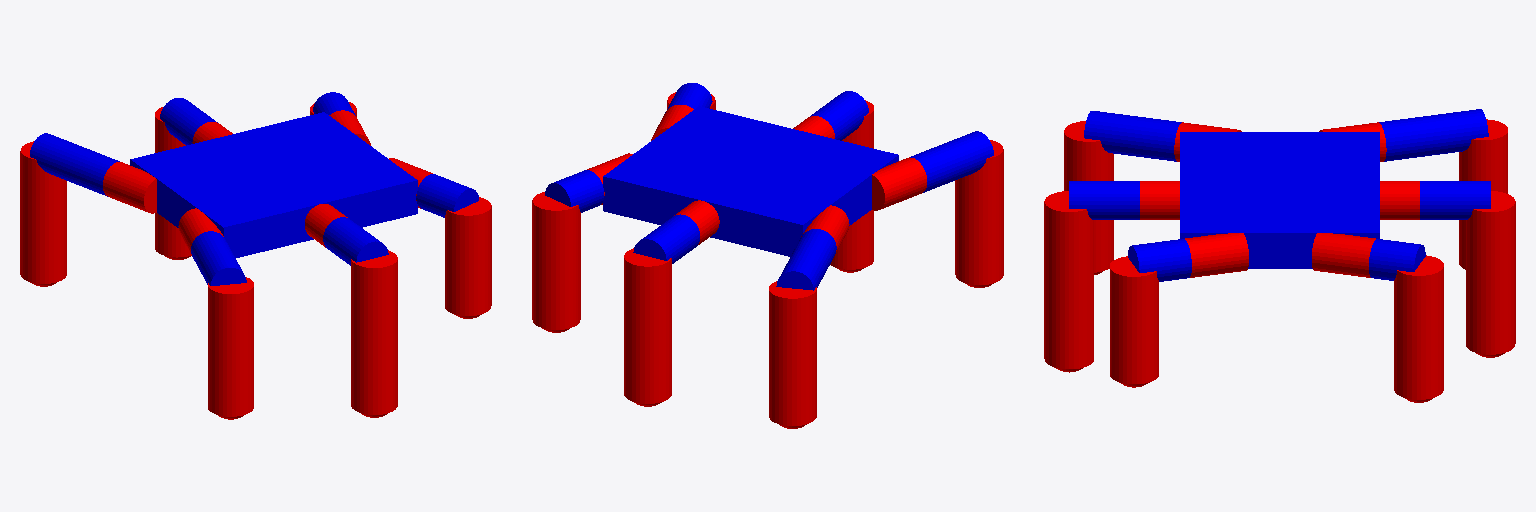
--- What the picture shows (computed from the rendered views, not written in the file) ---
The picture shows the robot from 3 angles, left to right: view 1: azimuth 30°, elevation 25°; view 2: azimuth 150°, elevation 25°; view 3: azimuth 270°, elevation 25°; orthographic projection.
Model pexod with 19 links and 18 joints (18 revolute), rooted at base_link, posed every joint at zero.
Visible links, largest first — view 1: base_link, leg_4_3, leg_5_3, leg_0_3, leg_3_3, leg_0_2, leg_5_2, leg_0_1, leg_4_2, leg_3_2, leg_1_3, leg_1_2 (+3 smaller); view 2: base_link, leg_1_3, leg_0_3, leg_2_3, leg_5_3, leg_5_2, leg_4_3, leg_0_2, leg_5_1, leg_1_2, leg_2_2, leg_4_2 (+5 smaller); view 3: base_link, leg_4_3, leg_1_3, leg_2_3, leg_3_3, leg_0_2, leg_5_2, leg_5_3, leg_0_3, leg_1_2, leg_4_2, leg_2_1 (+7 smaller).
Link boxes in pixels (x1,y1,x2,y2): base_link: [130, 112, 417, 257]; leg_4_3: [351, 250, 397, 417]; leg_5_3: [208, 277, 253, 419]; leg_0_3: [20, 141, 66, 286]; leg_3_3: [445, 197, 491, 318]; leg_0_2: [30, 133, 119, 196]; leg_5_2: [191, 231, 246, 285]; leg_0_1: [103, 162, 156, 213]; leg_4_2: [323, 217, 388, 265]; leg_3_2: [416, 174, 478, 217]; leg_1_3: [155, 107, 191, 259]; leg_1_2: [160, 98, 217, 145]; base_link: [603, 106, 898, 256]; leg_1_3: [624, 248, 671, 406]; leg_0_3: [769, 281, 816, 428]; leg_2_3: [532, 192, 580, 332]; leg_5_3: [955, 140, 1003, 287]; leg_5_2: [910, 131, 993, 192]; leg_4_3: [830, 100, 873, 272]; leg_0_2: [776, 229, 836, 290]; leg_5_1: [872, 157, 926, 210]; leg_1_2: [633, 214, 699, 263]; leg_2_2: [545, 170, 603, 212]; leg_4_2: [810, 91, 868, 140]; base_link: [1180, 132, 1379, 268]; leg_4_3: [1044, 191, 1093, 372]; leg_1_3: [1466, 191, 1515, 357]; leg_2_3: [1394, 255, 1443, 402]; leg_3_3: [1110, 256, 1158, 387]; leg_0_2: [1379, 109, 1488, 161]; leg_5_2: [1084, 111, 1181, 161]; leg_5_3: [1064, 121, 1113, 274]; leg_0_3: [1459, 119, 1507, 269]; leg_1_2: [1420, 181, 1490, 219]; leg_4_2: [1069, 181, 1139, 219]; leg_2_1: [1312, 233, 1375, 277].
Bounding box of the posed robot: 0.3731 × 0.4712 × 0.2062 m (x, y, z).
Geometry: primitives only (box / cylinder / sphere), no mesh files.

robot.urdf — pexod:
<?xml version="1.0" ?>
<!-- =================================================================================== -->
<!-- |    This document was autogenerated by xacro from pexod.xacro                    | -->
<!-- |    EDITING THIS FILE BY HAND IS NOT RECOMMENDED                                 | -->
<!-- =================================================================================== -->
<robot name="pexod" xmlns:xacro="http://www.ros.org/wiki/xacro">
  <!-- <xacro:include filename="$(find pexod_description)/urdf/pexod_control.xacro" /> -->
  <!-- MATERIALS -->
  <material name="Blue">
    <color rgba="0 0 1 1"/>
  </material>
  <material name="Red">
    <color rgba="1 0 0 1"/>
  </material>
  <material name="Green">
    <color rgba="0 1 0 1"/>
  </material>
  <material name="Yellow">
    <color rgba="1 1 0 1"/>
  </material>
  <material name="LightGrey">
    <color rgba="0.6 0.6 0.6 1.0"/>
  </material>
  <!-- END OF MATERIALS -->
  <!-- XACRO MACROS FOR VISUALS AND COLLISIONS -->
  <!-- END OF XACRO MACROS -->
  <!-- TORSO -->
  <link name="base_link">
    <visual>
      <origin rpy="0 0 0" xyz="0 0 0"/>
      <geometry>
        <box size="0.24 0.2 0.04"/>
      </geometry>
      <material name="Blue"/>
    </visual>
    <collision>
      <origin rpy="0 0 0" xyz="0 0 0"/>
      <geometry>
        <box size="0.24 0.2 0.04"/>
      </geometry>
    </collision>
    <inertial>
      <!-- CENTER OF MASS -->
      <origin rpy="0 0 0" xyz="0 0 0"/>
      <mass value="1.031"/>
      <!-- box inertia: 1/12*m(y^2+z^2), ... -->
      <inertia ixx="0.00357413333333" ixy="0" ixz="0" iyy="0.00508626666667" iyz="0" izz="0.00838546666667"/>
    </inertial>
  </link>
  <!-- XACRO MACRO FOR LEGS LINKS/JOINTS -->
  <!-- END OF LEG LINKS/JOINTS -->
  <joint name="body_leg_2" type="revolute">
    <parent link="base_link"/>
    <child link="leg_2_1"/>
    <limit effort="30.0" lower="-1.57079632679" upper="1.57079632679" velocity="7.0"/>
    <origin rpy="0 0 -0.3" xyz="0.11 0.04 0"/>
    <!-- <xacro:if value="${index == 5 or index == 4 or index == 3}">
                <axis xyz="0 0 1"/>
            </xacro:if>
            <xacro:if value="${index == 2 or index == 1 or index == 0}"> -->
    <axis xyz="0 0 1"/>
    <!-- </xacro:if> -->
    <dynamics damping="0.0"/>
  </joint>
  <link name="leg_2_1">
    <visual>
      <origin rpy="1.57079632679 0 0" xyz="0.01 0.03 0"/>
      <geometry>
        <cylinder length="0.06" radius="0.02"/>
      </geometry>
      <material name="Red"/>
    </visual>
    <collision>
      <origin rpy="1.57079632679 0 0" xyz="0.01 0.03 0"/>
      <geometry>
        <box size="0.02 0.02 0.06"/>
      </geometry>
    </collision>
    <inertial>
      <!-- CENTER OF MASS -->
      <origin rpy="1.57079632679 0 0" xyz="0.01 0.03 0"/>
      <mass value="0.02"/>
      <!-- box inertia: 1/12*m(y^2+z^2), ... -->
      <inertia ixx="6.66666666667e-06" ixy="0" ixz="0" iyy="6.66666666667e-06" iyz="0" izz="1.33333333333e-06"/>
    </inertial>
  </link>
  <joint name="leg_2_1_2" type="revolute">
    <parent link="leg_2_1"/>
    <child link="leg_2_2"/>
    <limit effort="30.0" lower="-0.78539816339" upper="0.78539816339" velocity="7.0"/>
    <origin rpy="0 0 0" xyz="0 0.06 0"/>
    <axis xyz="1 0 0"/>
    <dynamics damping="0.0"/>
  </joint>
  <link name="leg_2_2">
    <visual>
      <origin rpy="1.57079632679 0 0" xyz="0.01 0.0236103454167 0"/>
      <geometry>
        <cylinder length="0.0472206908334" radius="0.02"/>
      </geometry>
      <material name="Blue"/>
    </visual>
    <collision>
      <origin rpy="1.57079632679 0 0" xyz="0.01 0.0236103454167 0"/>
      <geometry>
        <box size="0.02 0.02 0.0472206908334"/>
      </geometry>
    </collision>
    <inertial>
      <!-- CENTER OF MASS -->
      <origin rpy="1.57079632679 0 0" xyz="0.01 0.0236103454167 0"/>
      <mass value="0.184"/>
      <!-- box inertia: 1/12*m(y^2+z^2), ... -->
      <inertia ixx="4.03235025227e-05" ixy="0" ixz="0" iyy="4.03235025227e-05" iyz="0" izz="1.22666666667e-05"/>
    </inertial>
  </link>
  <joint name="leg_2_2_3" type="revolute">
    <parent link="leg_2_2"/>
    <child link="leg_2_3"/>
    <limit effort="30.0" lower="-0.78539816339" upper="0.78539816339" velocity="7.0"/>
    <origin rpy="-1.57079632679 0 0" xyz="0 0.0472206908334 0"/>
    <axis xyz="-1 0 0"/>
    <dynamics damping="0.0"/>
  </joint>
  <link name="leg_2_3">
    <visual>
      <origin rpy="1.57079632679 0 0" xyz="0.0125 0.06843462763 0"/>
      <geometry>
        <cylinder length="0.13686925526" radius="0.025"/>
      </geometry>
      <material name="Red"/>
    </visual>
    <visual>
      <origin rpy="1.57079632679 0 0" xyz="0.0125 0.12436925526 0"/>
      <geometry>
        <sphere radius="0.025"/>
      </geometry>
      <material name="Red"/>
    </visual>
    <collision>
      <origin rpy="1.57079632679 0 0" xyz="0.0125 0.06843462763 0"/>
      <geometry>
        <box size="0.025 0.025 0.13686925526"/>
      </geometry>
    </collision>
    <collision>
      <origin rpy="1.57079632679 0 0" xyz="0.0125 0.12436925526 0"/>
      <geometry>
        <sphere radius="0.025"/>
      </geometry>
      <material name="Red"/>
    </collision>
    <inertial>
      <!-- CENTER OF MASS -->
      <origin rpy="1.57079632679 0 0" xyz="0.0125 0.06843462763 0"/>
      <mass value="0.04"/>
      <!-- box inertia: 1/12*m(y^2+z^2), ... -->
      <inertia ixx="6.45273101181e-05" ixy="0" ixz="0" iyy="6.45273101181e-05" iyz="0" izz="4.16666666667e-06"/>
    </inertial>
  </link>
  <joint name="body_leg_3" type="revolute">
    <parent link="base_link"/>
    <child link="leg_3_1"/>
    <limit effort="30.0" lower="-1.57079632679" upper="1.57079632679" velocity="7.0"/>
    <origin rpy="0 0 0.3" xyz="0.11 -0.04 0"/>
    <!-- <xacro:if value="${index == 5 or index == 4 or index == 3}">
                <axis xyz="0 0 1"/>
            </xacro:if>
            <xacro:if value="${index == 2 or index == 1 or index == 0}"> -->
    <axis xyz="0 0 1"/>
    <!-- </xacro:if> -->
    <dynamics damping="0.0"/>
  </joint>
  <link name="leg_3_1">
    <visual>
      <origin rpy="1.57079632679 0 0" xyz="0.01 -0.03 0"/>
      <geometry>
        <cylinder length="0.06" radius="0.02"/>
      </geometry>
      <material name="Red"/>
    </visual>
    <collision>
      <origin rpy="1.57079632679 0 0" xyz="0.01 -0.03 0"/>
      <geometry>
        <box size="0.02 0.02 0.06"/>
      </geometry>
    </collision>
    <inertial>
      <!-- CENTER OF MASS -->
      <origin rpy="1.57079632679 0 0" xyz="0.01 -0.03 0"/>
      <mass value="0.02"/>
      <!-- box inertia: 1/12*m(y^2+z^2), ... -->
      <inertia ixx="6.66666666667e-06" ixy="0" ixz="0" iyy="6.66666666667e-06" iyz="0" izz="1.33333333333e-06"/>
    </inertial>
  </link>
  <joint name="leg_3_1_2" type="revolute">
    <parent link="leg_3_1"/>
    <child link="leg_3_2"/>
    <limit effort="30.0" lower="-0.78539816339" upper="0.78539816339" velocity="7.0"/>
    <origin rpy="0 0 0" xyz="0 -0.06 0"/>
    <axis xyz="-1 0 0"/>
    <dynamics damping="0.0"/>
  </joint>
  <link name="leg_3_2">
    <visual>
      <origin rpy="1.57079632679 0 0" xyz="0.01 -0.0274284698387 0"/>
      <geometry>
        <cylinder length="0.0548569396774" radius="0.02"/>
      </geometry>
      <material name="Blue"/>
    </visual>
    <collision>
      <origin rpy="1.57079632679 0 0" xyz="0.01 -0.0274284698387 0"/>
      <geometry>
        <box size="0.02 0.02 0.0548569396774"/>
      </geometry>
    </collision>
    <inertial>
      <!-- CENTER OF MASS -->
      <origin rpy="1.57079632679 0 0" xyz="0.01 -0.0274284698387 0"/>
      <mass value="0.184"/>
      <!-- box inertia: 1/12*m(y^2+z^2), ... -->
      <inertia ixx="5.22756854051e-05" ixy="0" ixz="0" iyy="5.22756854051e-05" iyz="0" izz="1.22666666667e-05"/>
    </inertial>
  </link>
  <joint name="leg_3_2_3" type="revolute">
    <parent link="leg_3_2"/>
    <child link="leg_3_3"/>
    <limit effort="30.0" lower="-0.78539816339" upper="0.78539816339" velocity="7.0"/>
    <origin rpy="1.57079632679 0 0" xyz="0 -0.0548569396774 0"/>
    <axis xyz="1 0 0"/>
    <dynamics damping="0.0"/>
  </joint>
  <link name="leg_3_3">
    <visual>
      <origin rpy="1.57079632679 0 0" xyz="0.0125 -0.0593877437105 0"/>
      <geometry>
        <cylinder length="0.118775487421" radius="0.025"/>
      </geometry>
      <material name="Red"/>
    </visual>
    <visual>
      <origin rpy="1.57079632679 0 0" xyz="0.0125 -0.106275487421 0"/>
      <geometry>
        <sphere radius="0.025"/>
      </geometry>
      <material name="Red"/>
    </visual>
    <collision>
      <origin rpy="1.57079632679 0 0" xyz="0.0125 -0.0593877437105 0"/>
      <geometry>
        <box size="0.025 0.025 0.118775487421"/>
      </geometry>
    </collision>
    <collision>
      <origin rpy="1.57079632679 0 0" xyz="0.0125 -0.106275487421 0"/>
      <geometry>
        <sphere radius="0.025"/>
      </geometry>
      <material name="Red"/>
    </collision>
    <inertial>
      <!-- CENTER OF MASS -->
      <origin rpy="1.57079632679 0 0" xyz="0.0125 -0.0593877437105 0"/>
      <mass value="0.04"/>
      <!-- box inertia: 1/12*m(y^2+z^2), ... -->
      <inertia ixx="4.91087213737e-05" ixy="0" ixz="0" iyy="4.91087213737e-05" iyz="0" izz="4.16666666667e-06"/>
    </inertial>
  </link>
  <joint name="body_leg_0" type="revolute">
    <parent link="base_link"/>
    <child link="leg_0_1"/>
    <limit effort="30.0" lower="-1.57079632679" upper="1.57079632679" velocity="7.0"/>
    <origin rpy="0 0 0.3" xyz="-0.13 0.04 0"/>
    <!-- <xacro:if value="${index == 5 or index == 4 or index == 3}">
                <axis xyz="0 0 1"/>
            </xacro:if>
            <xacro:if value="${index == 2 or index == 1 or index == 0}"> -->
    <axis xyz="0 0 1"/>
    <!-- </xacro:if> -->
    <dynamics damping="0.0"/>
  </joint>
  <link name="leg_0_1">
    <visual>
      <origin rpy="1.57079632679 0 0" xyz="0.01 0.03 0"/>
      <geometry>
        <cylinder length="0.06" radius="0.02"/>
      </geometry>
      <material name="Red"/>
    </visual>
    <collision>
      <origin rpy="1.57079632679 0 0" xyz="0.01 0.03 0"/>
      <geometry>
        <box size="0.02 0.02 0.06"/>
      </geometry>
    </collision>
    <inertial>
      <!-- CENTER OF MASS -->
      <origin rpy="1.57079632679 0 0" xyz="0.01 0.03 0"/>
      <mass value="0.02"/>
      <!-- box inertia: 1/12*m(y^2+z^2), ... -->
      <inertia ixx="6.66666666667e-06" ixy="0" ixz="0" iyy="6.66666666667e-06" iyz="0" izz="1.33333333333e-06"/>
    </inertial>
  </link>
  <joint name="leg_0_1_2" type="revolute">
    <parent link="leg_0_1"/>
    <child link="leg_0_2"/>
    <limit effort="30.0" lower="-0.78539816339" upper="0.78539816339" velocity="7.0"/>
    <origin rpy="0 0 0" xyz="0 0.06 0"/>
    <axis xyz="1 0 0"/>
    <dynamics damping="0.0"/>
  </joint>
  <link name="leg_0_2">
    <visual>
      <origin rpy="1.57079632679 0 0" xyz="0.01 0.053466234846 0"/>
      <geometry>
        <cylinder length="0.106932469692" radius="0.02"/>
      </geometry>
      <material name="Blue"/>
    </visual>
    <collision>
      <origin rpy="1.57079632679 0 0" xyz="0.01 0.053466234846 0"/>
      <geometry>
        <box size="0.02 0.02 0.106932469692"/>
      </geometry>
    </collision>
    <inertial>
      <!-- CENTER OF MASS -->
      <origin rpy="1.57079632679 0 0" xyz="0.01 0.053466234846 0"/>
      <mass value="0.184"/>
      <!-- box inertia: 1/12*m(y^2+z^2), ... -->
      <inertia ixx="0.000181463147141" ixy="0" ixz="0" iyy="0.000181463147141" iyz="0" izz="1.22666666667e-05"/>
    </inertial>
  </link>
  <joint name="leg_0_2_3" type="revolute">
    <parent link="leg_0_2"/>
    <child link="leg_0_3"/>
    <limit effort="30.0" lower="-0.78539816339" upper="0.78539816339" velocity="7.0"/>
    <origin rpy="-1.57079632679 0 0" xyz="0 0.106932469692 0"/>
    <axis xyz="-1 0 0"/>
    <dynamics damping="0.0"/>
  </joint>
  <link name="leg_0_3">
    <visual>
      <origin rpy="1.57079632679 0 0" xyz="0.0125 0.073176243044 0"/>
      <geometry>
        <cylinder length="0.146352486088" radius="0.025"/>
      </geometry>
      <material name="Red"/>
    </visual>
    <visual>
      <origin rpy="1.57079632679 0 0" xyz="0.0125 0.133852486088 0"/>
      <geometry>
        <sphere radius="0.025"/>
      </geometry>
      <material name="Red"/>
    </visual>
    <collision>
      <origin rpy="1.57079632679 0 0" xyz="0.0125 0.073176243044 0"/>
      <geometry>
        <box size="0.025 0.025 0.146352486088"/>
      </geometry>
    </collision>
    <collision>
      <origin rpy="1.57079632679 0 0" xyz="0.0125 0.133852486088 0"/>
      <geometry>
        <sphere radius="0.025"/>
      </geometry>
      <material name="Red"/>
    </collision>
    <inertial>
      <!-- CENTER OF MASS -->
      <origin rpy="1.57079632679 0 0" xyz="0.0125 0.073176243044 0"/>
      <mass value="0.04"/>
      <!-- box inertia: 1/12*m(y^2+z^2), ... -->
      <inertia ixx="7.34801672805e-05" ixy="0" ixz="0" iyy="7.34801672805e-05" iyz="0" izz="4.16666666667e-06"/>
    </inertial>
  </link>
  <joint name="body_leg_5" type="revolute">
    <parent link="base_link"/>
    <child link="leg_5_1"/>
    <limit effort="30.0" lower="-1.57079632679" upper="1.57079632679" velocity="7.0"/>
    <origin rpy="0 0 -0.3" xyz="-0.13 -0.04 0"/>
    <!-- <xacro:if value="${index == 5 or index == 4 or index == 3}">
                <axis xyz="0 0 1"/>
            </xacro:if>
            <xacro:if value="${index == 2 or index == 1 or index == 0}"> -->
    <axis xyz="0 0 1"/>
    <!-- </xacro:if> -->
    <dynamics damping="0.0"/>
  </joint>
  <link name="leg_5_1">
    <visual>
      <origin rpy="1.57079632679 0 0" xyz="0.01 -0.03 0"/>
      <geometry>
        <cylinder length="0.06" radius="0.02"/>
      </geometry>
      <material name="Red"/>
    </visual>
    <collision>
      <origin rpy="1.57079632679 0 0" xyz="0.01 -0.03 0"/>
      <geometry>
        <box size="0.02 0.02 0.06"/>
      </geometry>
    </collision>
    <inertial>
      <!-- CENTER OF MASS -->
      <origin rpy="1.57079632679 0 0" xyz="0.01 -0.03 0"/>
      <mass value="0.02"/>
      <!-- box inertia: 1/12*m(y^2+z^2), ... -->
      <inertia ixx="6.66666666667e-06" ixy="0" ixz="0" iyy="6.66666666667e-06" iyz="0" izz="1.33333333333e-06"/>
    </inertial>
  </link>
  <joint name="leg_5_1_2" type="revolute">
    <parent link="leg_5_1"/>
    <child link="leg_5_2"/>
    <limit effort="30.0" lower="-0.78539816339" upper="0.78539816339" velocity="7.0"/>
    <origin rpy="0 0 0" xyz="0 -0.06 0"/>
    <axis xyz="-1 0 0"/>
    <dynamics damping="0.0"/>
  </joint>
  <link name="leg_5_2">
    <visual>
      <origin rpy="1.57079632679 0 0" xyz="0.01 -0.0473251003937 0"/>
      <geometry>
        <cylinder length="0.0946502007874" radius="0.02"/>
      </geometry>
      <material name="Blue"/>
    </visual>
    <collision>
      <origin rpy="1.57079632679 0 0" xyz="0.01 -0.0473251003937 0"/>
      <geometry>
        <box size="0.02 0.02 0.0946502007874"/>
      </geometry>
    </collision>
    <inertial>
      <!-- CENTER OF MASS -->
      <origin rpy="1.57079632679 0 0" xyz="0.01 -0.0473251003937 0"/>
      <mass value="0.184"/>
      <!-- box inertia: 1/12*m(y^2+z^2), ... -->
      <inertia ixx="0.000143499461139" ixy="0" ixz="0" iyy="0.000143499461139" iyz="0" izz="1.22666666667e-05"/>
    </inertial>
  </link>
  <joint name="leg_5_2_3" type="revolute">
    <parent link="leg_5_2"/>
    <child link="leg_5_3"/>
    <limit effort="30.0" lower="-0.78539816339" upper="0.78539816339" velocity="7.0"/>
    <origin rpy="1.57079632679 0 0" xyz="0 -0.0946502007874 0"/>
    <axis xyz="1 0 0"/>
    <dynamics damping="0.0"/>
  </joint>
  <link name="leg_5_3">
    <visual>
      <origin rpy="1.57079632679 0 0" xyz="0.0125 -0.0724180527285 0"/>
      <geometry>
        <cylinder length="0.144836105457" radius="0.025"/>
      </geometry>
      <material name="Red"/>
    </visual>
    <visual>
      <origin rpy="1.57079632679 0 0" xyz="0.0125 -0.132336105457 0"/>
      <geometry>
        <sphere radius="0.025"/>
      </geometry>
      <material name="Red"/>
    </visual>
    <collision>
      <origin rpy="1.57079632679 0 0" xyz="0.0125 -0.0724180527285 0"/>
      <geometry>
        <box size="0.025 0.025 0.144836105457"/>
      </geometry>
    </collision>
    <collision>
      <origin rpy="1.57079632679 0 0" xyz="0.0125 -0.132336105457 0"/>
      <geometry>
        <sphere radius="0.025"/>
      </geometry>
      <material name="Red"/>
    </collision>
    <inertial>
      <!-- CENTER OF MASS -->
      <origin rpy="1.57079632679 0 0" xyz="0.0125 -0.0724180527285 0"/>
      <mass value="0.04"/>
      <!-- box inertia: 1/12*m(y^2+z^2), ... -->
      <inertia ixx="7.20083248132e-05" ixy="0" ixz="0" iyy="7.20083248132e-05" iyz="0" izz="4.16666666667e-06"/>
    </inertial>
  </link>
  <joint name="body_leg_1" type="revolute">
    <parent link="base_link"/>
    <child link="leg_1_1"/>
    <limit effort="30.0" lower="-1.57079632679" upper="1.57079632679" velocity="7.0"/>
    <origin rpy="0 0 0" xyz="-0.01 0.08 0"/>
    <!-- <xacro:if value="${index == 5 or index == 4 or index == 3}">
                <axis xyz="0 0 1"/>
            </xacro:if>
            <xacro:if value="${index == 2 or index == 1 or index == 0}"> -->
    <axis xyz="0 0 1"/>
    <!-- </xacro:if> -->
    <dynamics damping="0.0"/>
  </joint>
  <link name="leg_1_1">
    <visual>
      <origin rpy="1.57079632679 0 0" xyz="0.01 0.03 0"/>
      <geometry>
        <cylinder length="0.06" radius="0.02"/>
      </geometry>
      <material name="Red"/>
    </visual>
    <collision>
      <origin rpy="1.57079632679 0 0" xyz="0.01 0.03 0"/>
      <geometry>
        <box size="0.02 0.02 0.06"/>
      </geometry>
    </collision>
    <inertial>
      <!-- CENTER OF MASS -->
      <origin rpy="1.57079632679 0 0" xyz="0.01 0.03 0"/>
      <mass value="0.02"/>
      <!-- box inertia: 1/12*m(y^2+z^2), ... -->
      <inertia ixx="6.66666666667e-06" ixy="0" ixz="0" iyy="6.66666666667e-06" iyz="0" izz="1.33333333333e-06"/>
    </inertial>
  </link>
  <joint name="leg_1_1_2" type="revolute">
    <parent link="leg_1_1"/>
    <child link="leg_1_2"/>
    <limit effort="30.0" lower="-0.78539816339" upper="0.78539816339" velocity="7.0"/>
    <origin rpy="0 0 0" xyz="0 0.06 0"/>
    <axis xyz="1 0 0"/>
    <dynamics damping="0.0"/>
  </joint>
  <link name="leg_1_2">
    <visual>
      <origin rpy="1.57079632679 0 0" xyz="0.01 0.0351037436874 0"/>
      <geometry>
        <cylinder length="0.0702074873747" radius="0.02"/>
      </geometry>
      <material name="Blue"/>
    </visual>
    <collision>
      <origin rpy="1.57079632679 0 0" xyz="0.01 0.0351037436874 0"/>
      <geometry>
        <box size="0.02 0.02 0.0702074873747"/>
      </geometry>
    </collision>
    <inertial>
      <!-- CENTER OF MASS -->
      <origin rpy="1.57079632679 0 0" xyz="0.01 0.0351037436874 0"/>
      <mass value="0.184"/>
      <!-- box inertia: 1/12*m(y^2+z^2), ... -->
      <inertia ixx="8.17127330132e-05" ixy="0" ixz="0" iyy="8.17127330132e-05" iyz="0" izz="1.22666666667e-05"/>
    </inertial>
  </link>
  <joint name="leg_1_2_3" type="revolute">
    <parent link="leg_1_2"/>
    <child link="leg_1_3"/>
    <limit effort="30.0" lower="-0.78539816339" upper="0.78539816339" velocity="7.0"/>
    <origin rpy="-1.57079632679 0 0" xyz="0 0.0702074873747 0"/>
    <axis xyz="-1 0 0"/>
    <dynamics damping="0.0"/>
  </joint>
  <link name="leg_1_3">
    <visual>
      <origin rpy="1.57079632679 0 0" xyz="0.0125 0.078765039606 0"/>
      <geometry>
        <cylinder length="0.157530079212" radius="0.025"/>
      </geometry>
      <material name="Red"/>
    </visual>
    <visual>
      <origin rpy="1.57079632679 0 0" xyz="0.0125 0.145030079212 0"/>
      <geometry>
        <sphere radius="0.025"/>
      </geometry>
      <material name="Red"/>
    </visual>
    <collision>
      <origin rpy="1.57079632679 0 0" xyz="0.0125 0.078765039606 0"/>
      <geometry>
        <box size="0.025 0.025 0.157530079212"/>
      </geometry>
    </collision>
    <collision>
      <origin rpy="1.57079632679 0 0" xyz="0.0125 0.145030079212 0"/>
      <geometry>
        <sphere radius="0.025"/>
      </geometry>
      <material name="Red"/>
    </collision>
    <inertial>
      <!-- CENTER OF MASS -->
      <origin rpy="1.57079632679 0 0" xyz="0.0125 0.078765039606 0"/>
      <mass value="0.04"/>
      <!-- box inertia: 1/12*m(y^2+z^2), ... -->
      <inertia ixx="8.48024195218e-05" ixy="0" ixz="0" iyy="8.48024195218e-05" iyz="0" izz="4.16666666667e-06"/>
    </inertial>
  </link>
  <joint name="body_leg_4" type="revolute">
    <parent link="base_link"/>
    <child link="leg_4_1"/>
    <limit effort="30.0" lower="-1.57079632679" upper="1.57079632679" velocity="7.0"/>
    <origin rpy="0 0 0" xyz="-0.01 -0.08 0"/>
    <!-- <xacro:if value="${index == 5 or index == 4 or index == 3}">
                <axis xyz="0 0 1"/>
            </xacro:if>
            <xacro:if value="${index == 2 or index == 1 or index == 0}"> -->
    <axis xyz="0 0 1"/>
    <!-- </xacro:if> -->
    <dynamics damping="0.0"/>
  </joint>
  <link name="leg_4_1">
    <visual>
      <origin rpy="1.57079632679 0 0" xyz="0.01 -0.03 0"/>
      <geometry>
        <cylinder length="0.06" radius="0.02"/>
      </geometry>
      <material name="Red"/>
    </visual>
    <collision>
      <origin rpy="1.57079632679 0 0" xyz="0.01 -0.03 0"/>
      <geometry>
        <box size="0.02 0.02 0.06"/>
      </geometry>
    </collision>
    <inertial>
      <!-- CENTER OF MASS -->
      <origin rpy="1.57079632679 0 0" xyz="0.01 -0.03 0"/>
      <mass value="0.02"/>
      <!-- box inertia: 1/12*m(y^2+z^2), ... -->
      <inertia ixx="6.66666666667e-06" ixy="0" ixz="0" iyy="6.66666666667e-06" iyz="0" izz="1.33333333333e-06"/>
    </inertial>
  </link>
  <joint name="leg_4_1_2" type="revolute">
    <parent link="leg_4_1"/>
    <child link="leg_4_2"/>
    <limit effort="30.0" lower="-0.78539816339" upper="0.78539816339" velocity="7.0"/>
    <origin rpy="0 0 0" xyz="0 -0.06 0"/>
    <axis xyz="-1 0 0"/>
    <dynamics damping="0.0"/>
  </joint>
  <link name="leg_4_2">
    <visual>
      <origin rpy="1.57079632679 0 0" xyz="0.01 -0.0355184528359 0"/>
      <geometry>
        <cylinder length="0.0710369056718" radius="0.02"/>
      </geometry>
      <material name="Blue"/>
    </visual>
    <collision>
      <origin rpy="1.57079632679 0 0" xyz="0.01 -0.0355184528359 0"/>
      <geometry>
        <box size="0.02 0.02 0.0710369056718"/>
      </geometry>
    </collision>
    <inertial>
      <!-- CENTER OF MASS -->
      <origin rpy="1.57079632679 0 0" xyz="0.01 -0.0355184528359 0"/>
      <mass value="0.184"/>
      <!-- box inertia: 1/12*m(y^2+z^2), ... -->
      <inertia ixx="8.35090435005e-05" ixy="0" ixz="0" iyy="8.35090435005e-05" iyz="0" izz="1.22666666667e-05"/>
    </inertial>
  </link>
  <joint name="leg_4_2_3" type="revolute">
    <parent link="leg_4_2"/>
    <child link="leg_4_3"/>
    <limit effort="30.0" lower="-0.78539816339" upper="0.78539816339" velocity="7.0"/>
    <origin rpy="1.57079632679 0 0" xyz="0 -0.0710369056718 0"/>
    <axis xyz="1 0 0"/>
    <dynamics damping="0.0"/>
  </joint>
  <link name="leg_4_3">
    <visual>
      <origin rpy="1.57079632679 0 0" xyz="0.0125 -0.08682832298 0"/>
      <geometry>
        <cylinder length="0.17365664596" radius="0.025"/>
      </geometry>
      <material name="Red"/>
    </visual>
    <visual>
      <origin rpy="1.57079632679 0 0" xyz="0.0125 -0.16115664596 0"/>
      <geometry>
        <sphere radius="0.025"/>
      </geometry>
      <material name="Red"/>
    </visual>
    <collision>
      <origin rpy="1.57079632679 0 0" xyz="0.0125 -0.08682832298 0"/>
      <geometry>
        <box size="0.025 0.025 0.17365664596"/>
      </geometry>
    </collision>
    <collision>
      <origin rpy="1.57079632679 0 0" xyz="0.0125 -0.16115664596 0"/>
      <geometry>
        <sphere radius="0.025"/>
      </geometry>
      <material name="Red"/>
    </collision>
    <inertial>
      <!-- CENTER OF MASS -->
      <origin rpy="1.57079632679 0 0" xyz="0.0125 -0.08682832298 0"/>
      <mass value="0.04"/>
      <!-- box inertia: 1/12*m(y^2+z^2), ... -->
      <inertia ixx="0.00010260543562" ixy="0" ixz="0" iyy="0.00010260543562" iyz="0" izz="4.16666666667e-06"/>
    </inertial>
  </link>
  <!-- END OF LEG LINKS/JOINTS -->
</robot>
